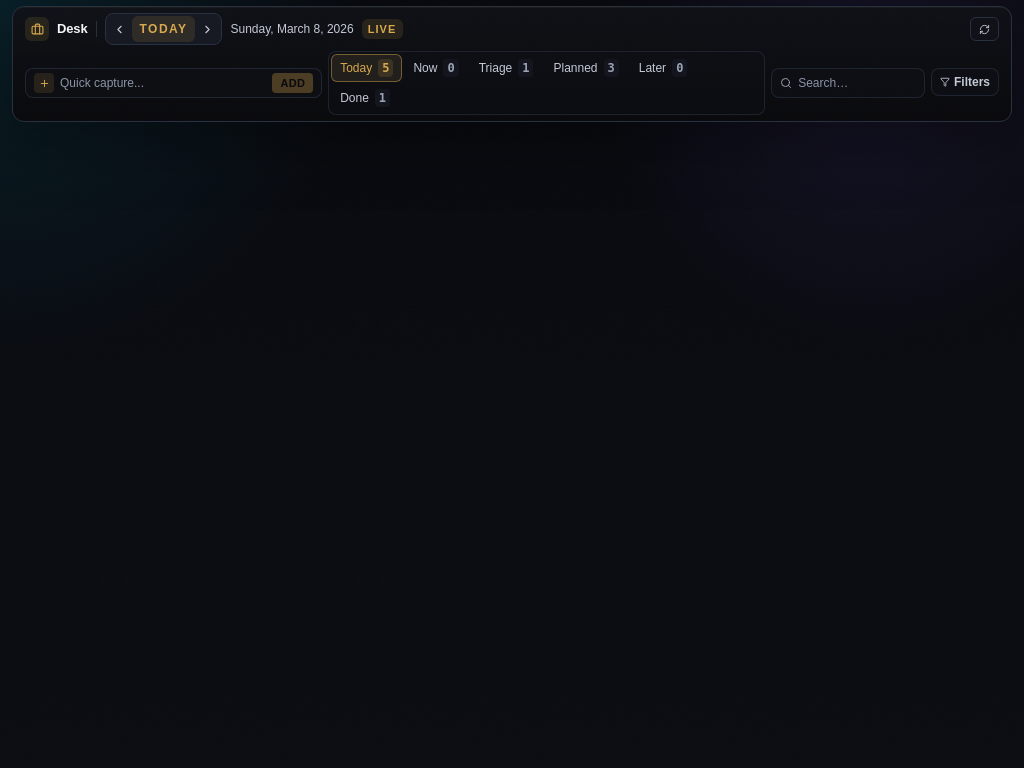
Test case: ManagerDeskPage › shows filter button and toggles filter bar
The width and height of the screenshot is (1024, 768).
Click the button "Filters" at point(965, 82), box [931,68,999,96]
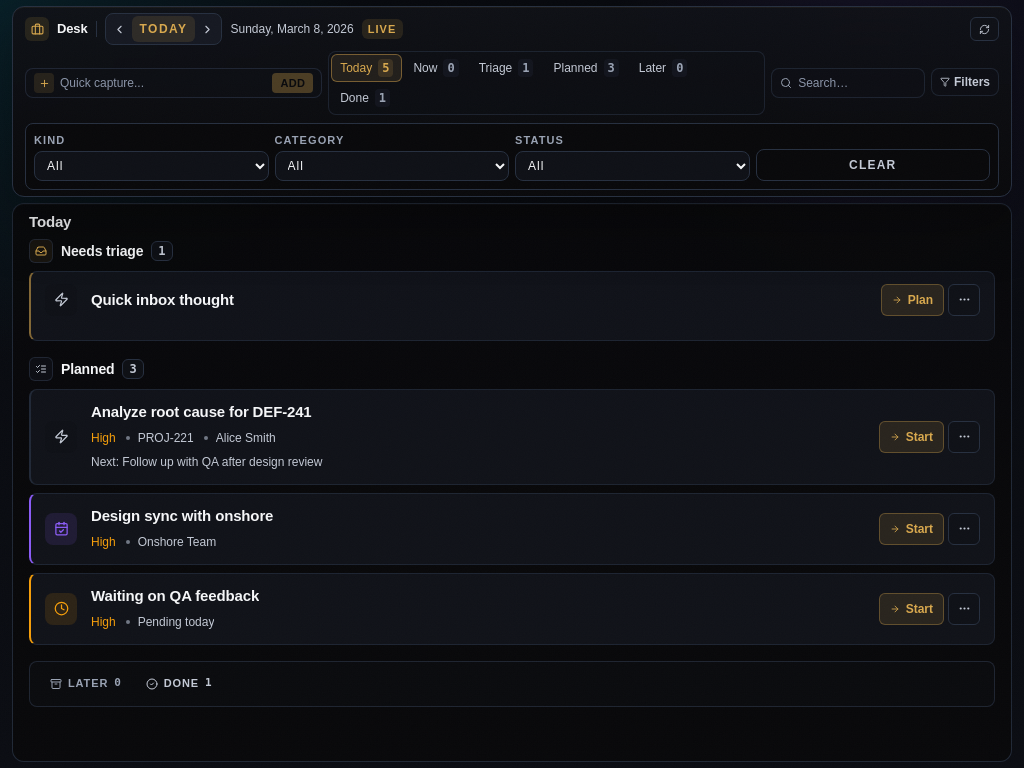
Expected: the button "Clear" is shown, [756,148,990,180]
